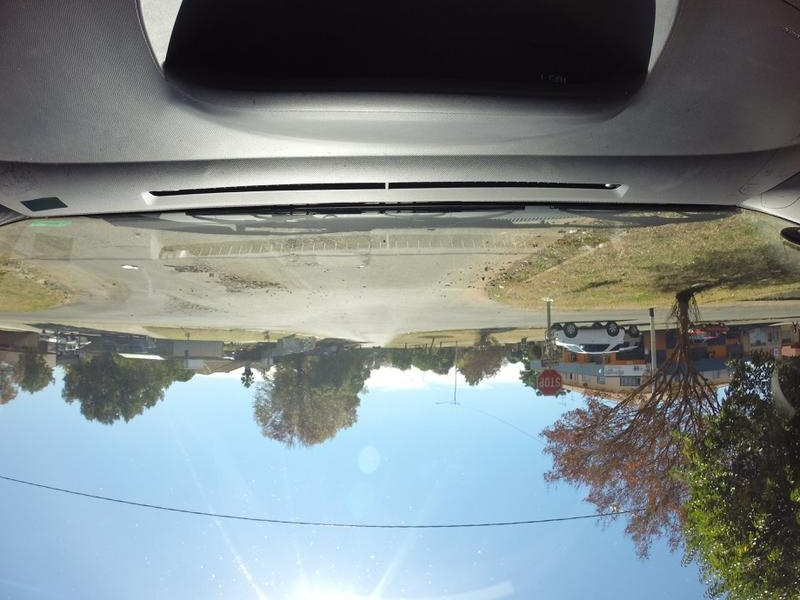pothole: (146, 251, 211, 273), (217, 274, 275, 291)
